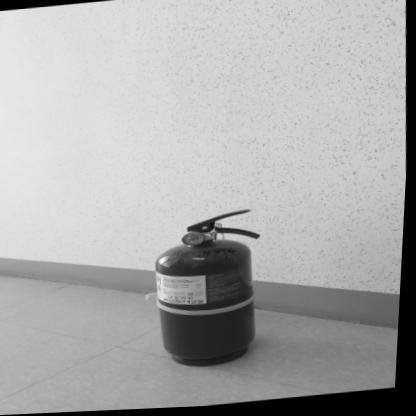FE: (154, 209, 268, 372)
